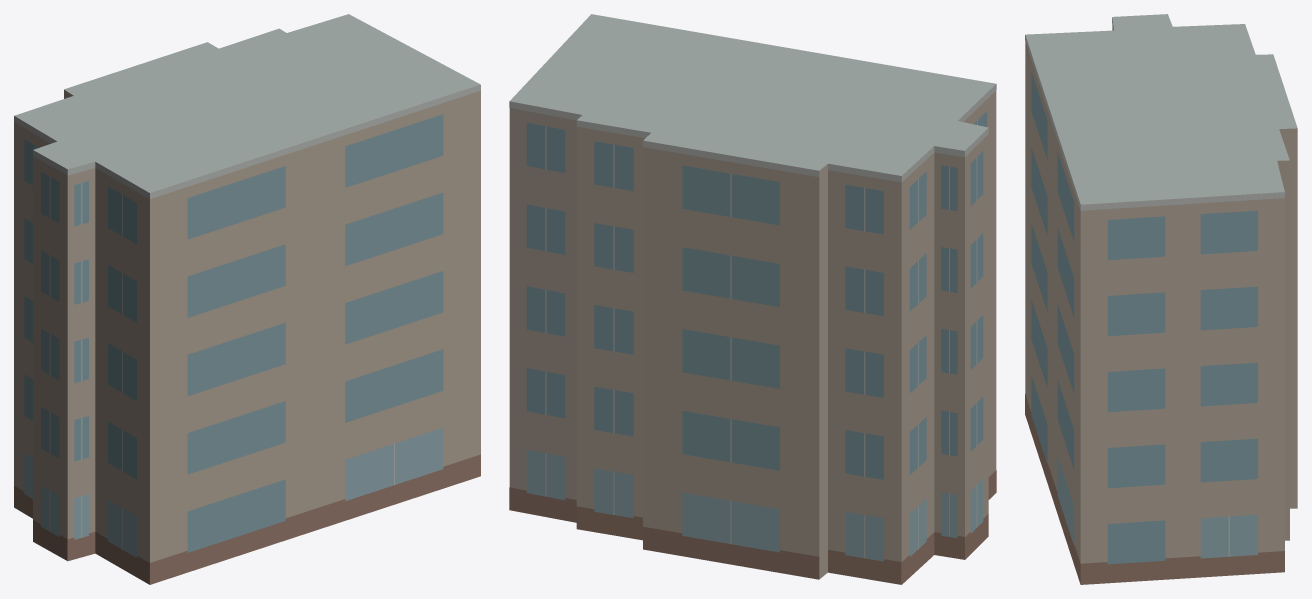
File: survey-upis-32848023.glb
3 renders of one model, left to right at view 1: azimuth 30°, elevation 25°; view 2: azimuth 150°, elevation 25°; view 3: azimuth 270°, elevation 25°, orthographic. The views are drawn at different scales.
Visible parts, largest first — view 1: survey-upis-32848023.tmp; view 2: survey-upis-32848023.tmp; view 3: survey-upis-32848023.tmp.
Boxes of the visible parts, x1,y1,x2,y2 form: survey-upis-32848023.tmp: (14,14,480,584); survey-upis-32848023.tmp: (509,14,996,584); survey-upis-32848023.tmp: (1025,14,1297,584).
Size of the model in its own units: 16.69 by 15.5 by 10.08.
